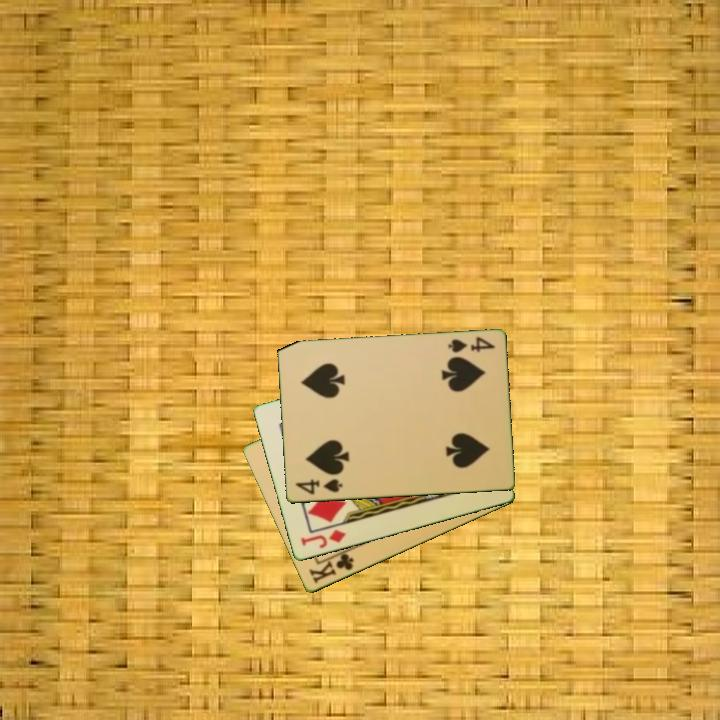4s: (444, 333, 498, 356), (291, 476, 345, 498)
Jd: (297, 526, 348, 552)
Kc: (305, 546, 356, 587)
